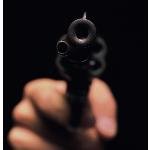Pistol: (52, 11, 110, 129)
